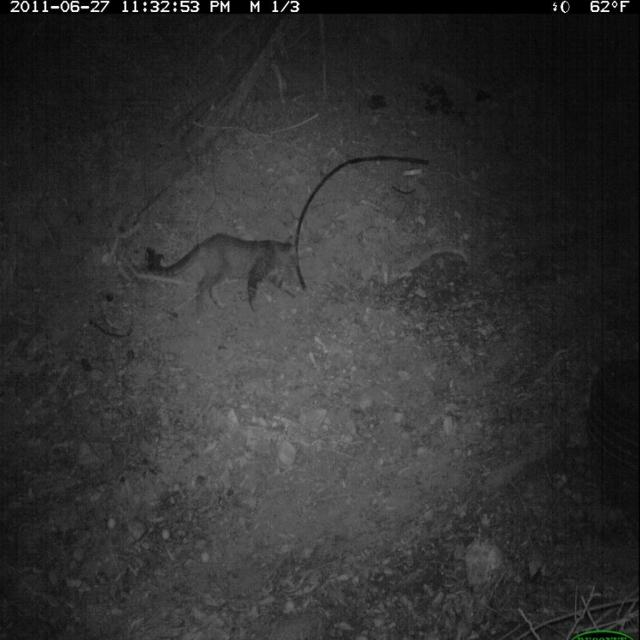cat: (133, 212, 305, 322)
